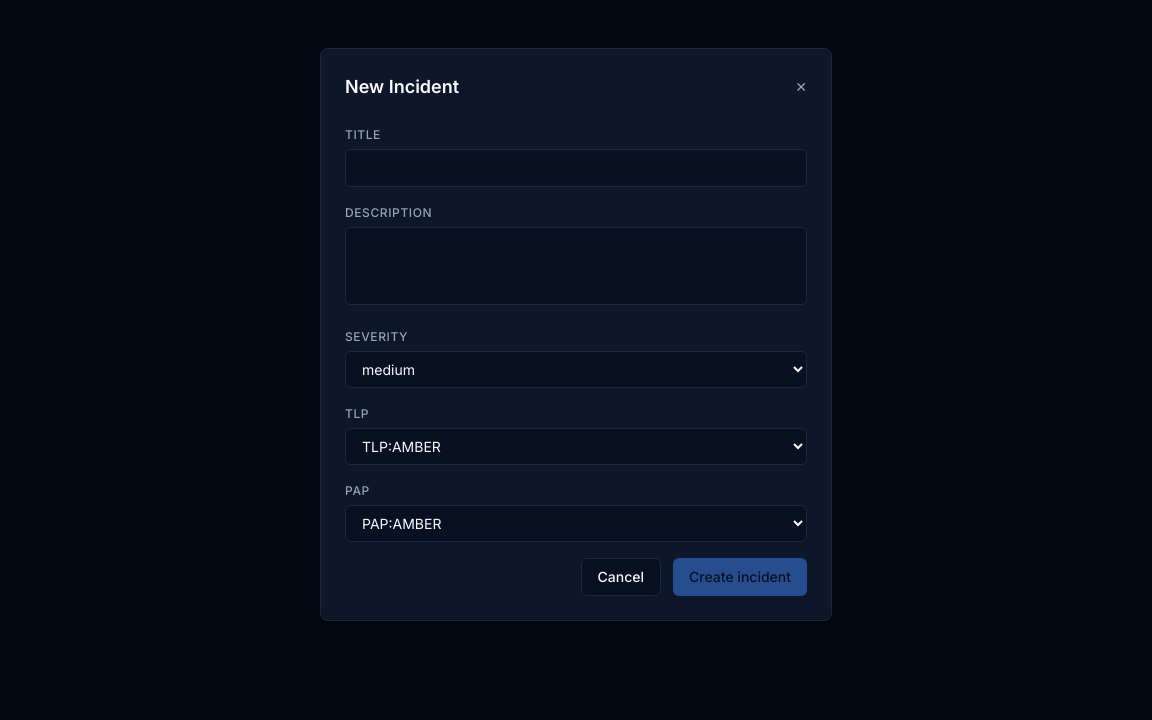
CreateIncidentModal › shows inline error on API failure without closing modal
Type "Test" into the field named "title" at (576, 168), box [345,149,807,187]
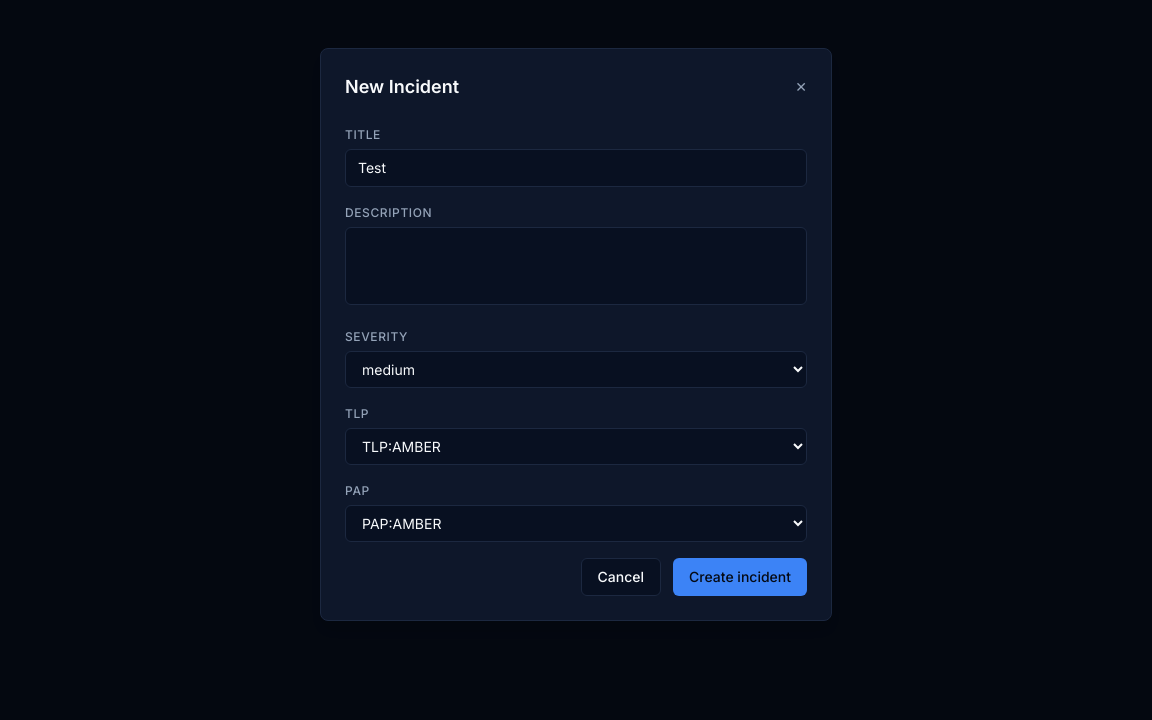
Click the button "Create incident" at (740, 577), box [673,558,807,596]
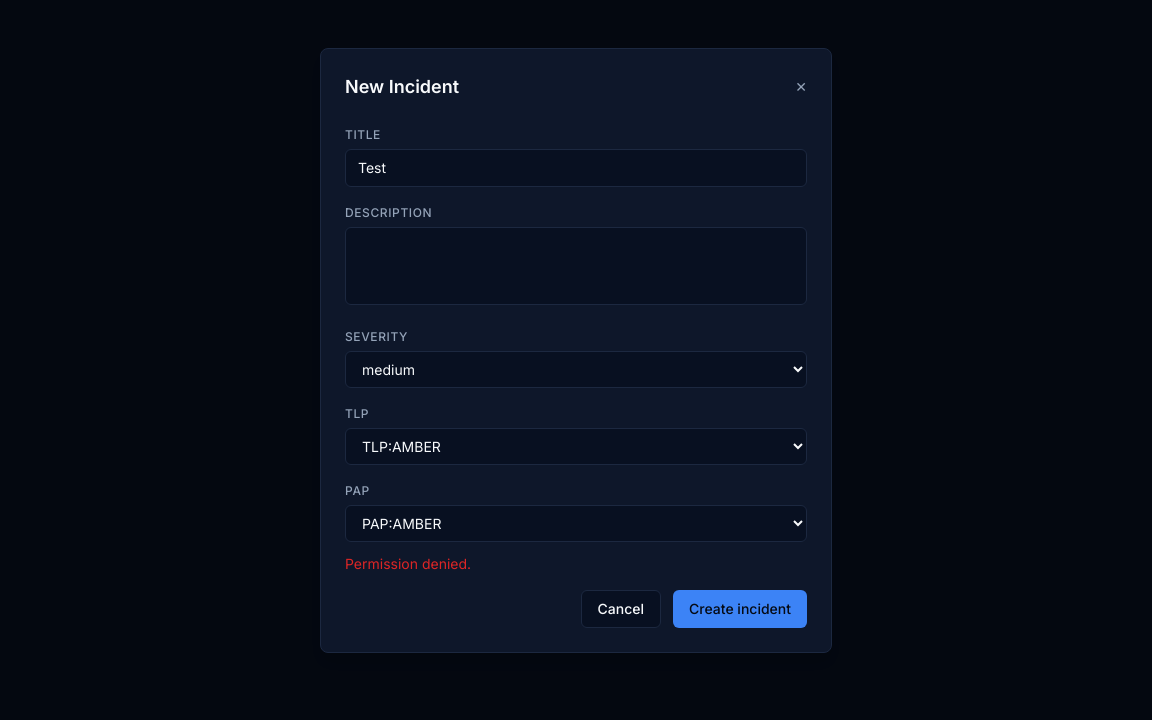
Check: the text "Permission denied." is shown, box [345,555,471,572]
